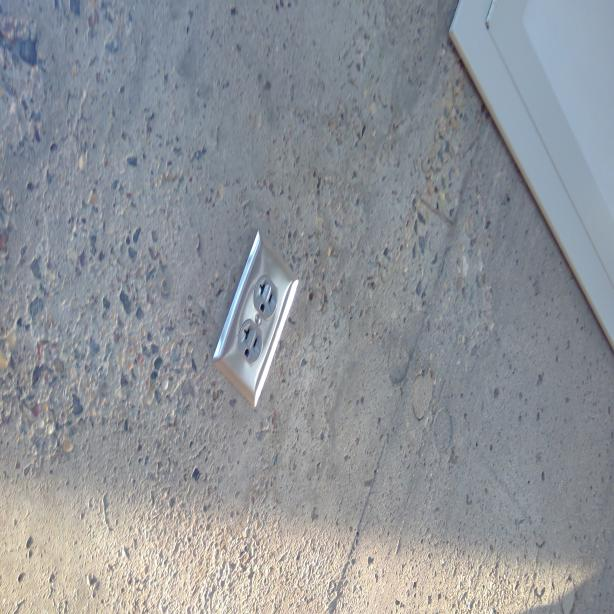typeb: (239, 320, 263, 360), (253, 276, 278, 314)
